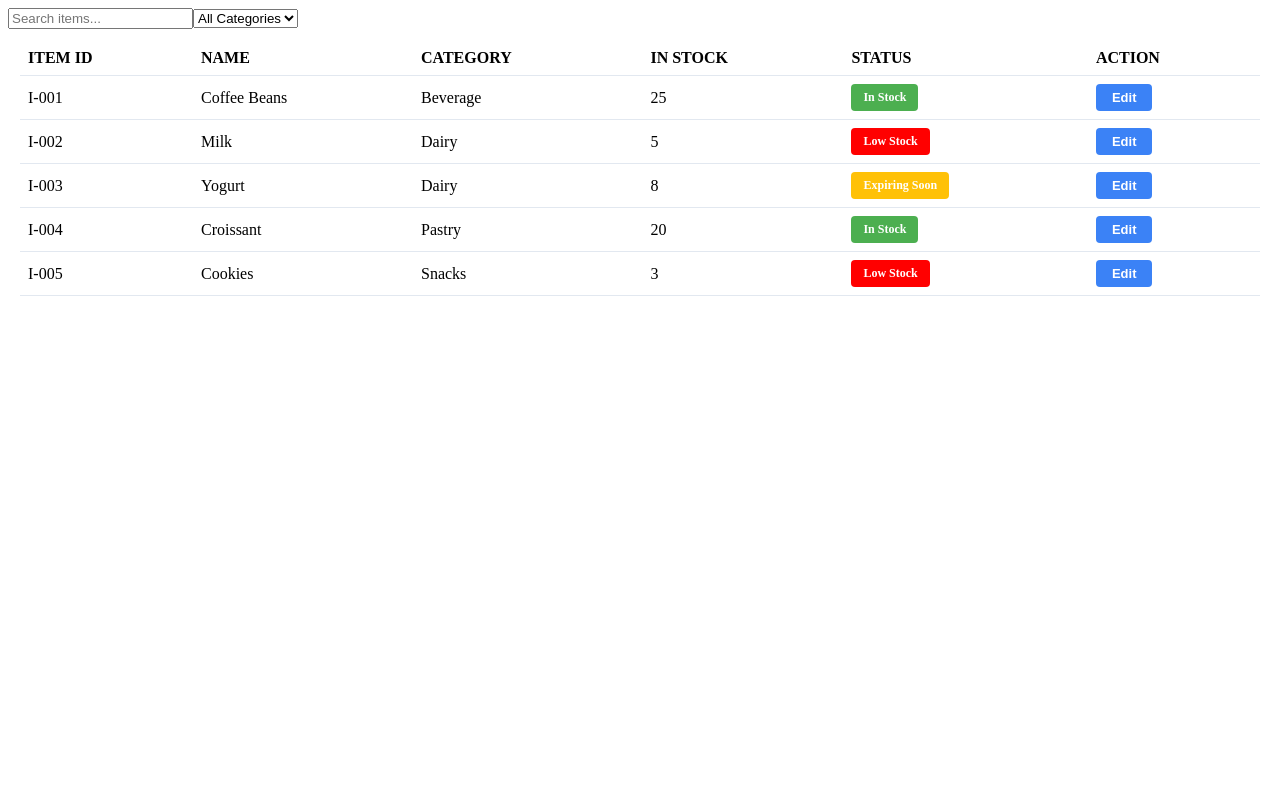
InventoryTable Integration Tests › displays correct item in modal when edit button is clicked
Click the button "Edit" in the row of "I-002" at (1124, 142), box [1096,128,1152,155]
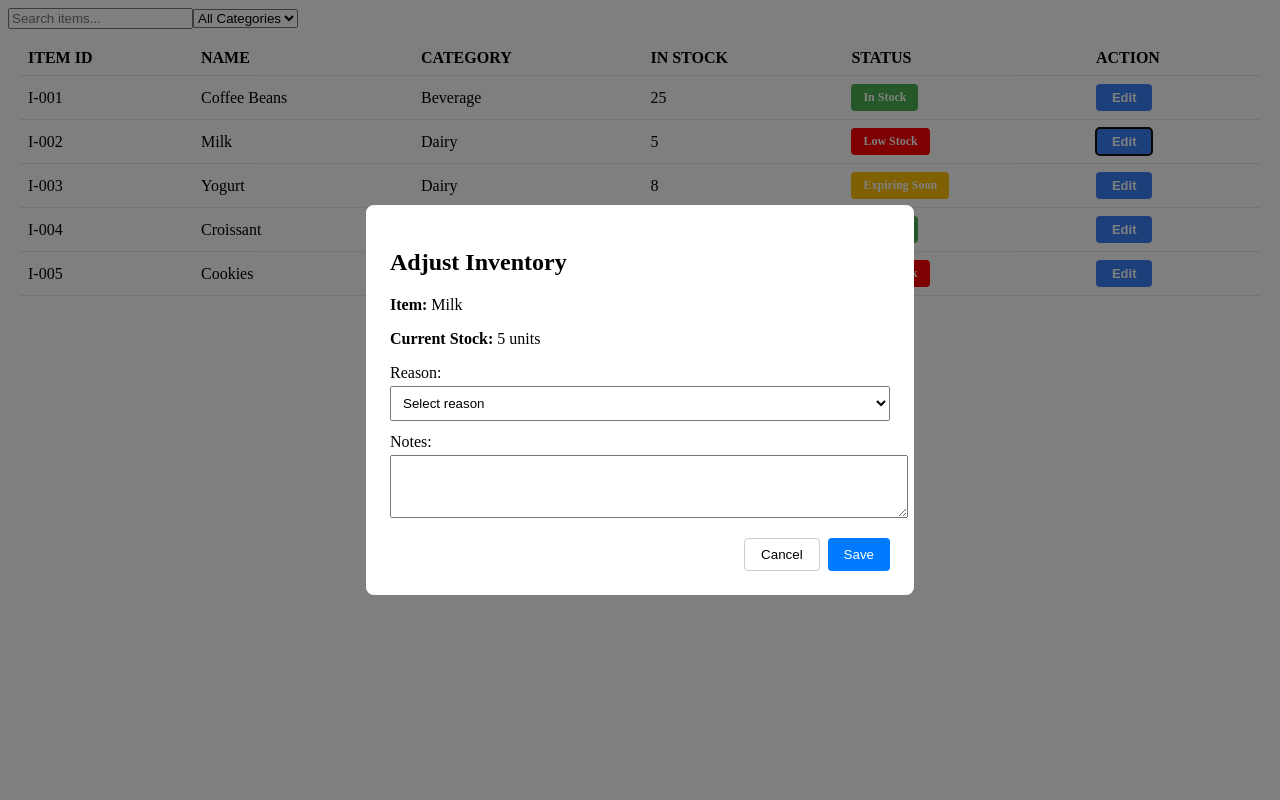
Now the element with test id "modal" is shown
Now the text with test id "item-name-display" reads "Milk", box [431,296,462,313]
Now the text with test id "current-stock-display" reads "5 units", box [497,330,540,347]
